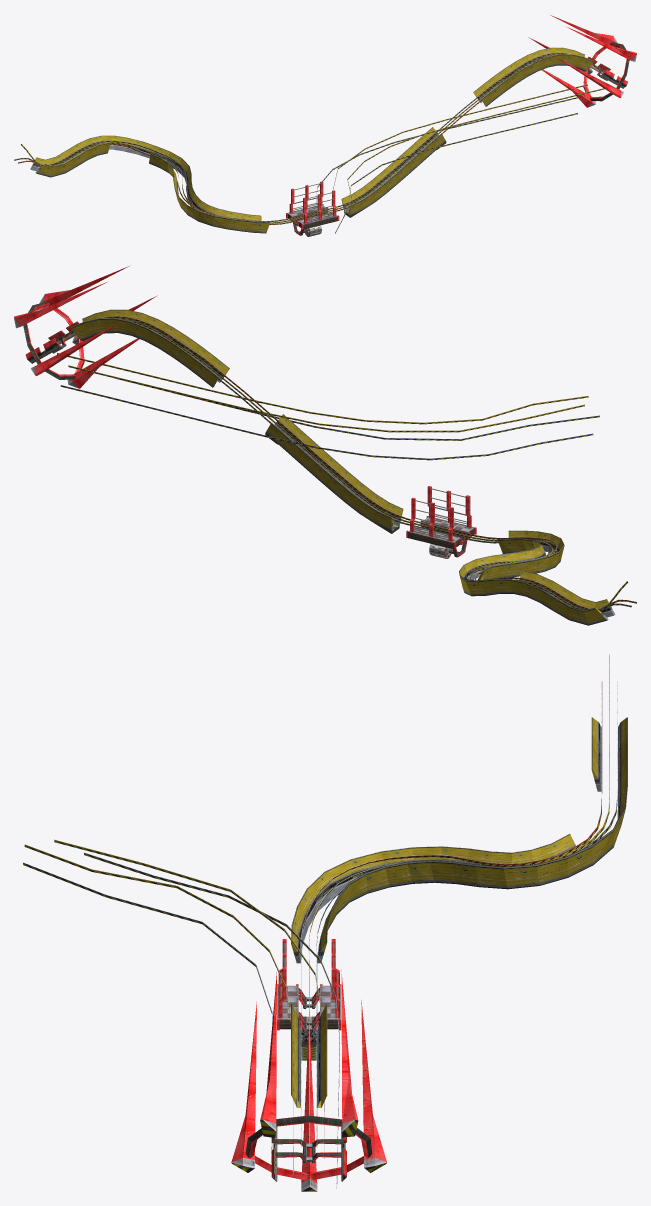
The model's file is railcanyon9.obj.
3 renders of one model, top to bottom at view 1: azimuth 30°, elevation 25°; view 2: azimuth 150°, elevation 25°; view 3: azimuth 270°, elevation 25°, orthographic. The views are drawn at different scales.
Parts seen in each view (by area): view 1: Object_2, obj1; view 2: Object_2, obj1; view 3: Object_2, obj1.
Part boxes in pixels (left/top/right/bottom): Object_2: left=14, top=15, right=636, bottom=236; obj1: left=286, top=204, right=339, bottom=229; Object_2: left=14, top=265, right=636, bottom=625; obj1: left=406, top=516, right=476, bottom=549; Object_2: left=23, top=654, right=627, bottom=1191; obj1: left=277, top=984, right=341, bottom=1030.
Size of the model in its own units: 4608 by 1282 by 2254.
24 materials, 24 textured.
